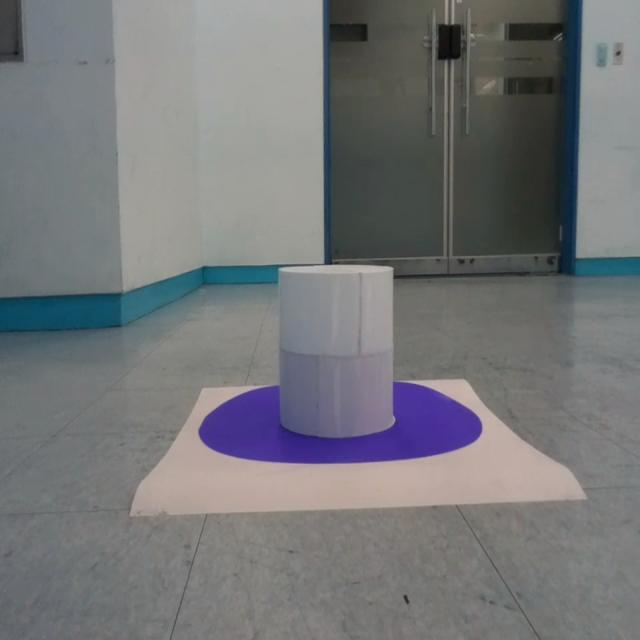cylinder: (278, 264, 395, 440)
